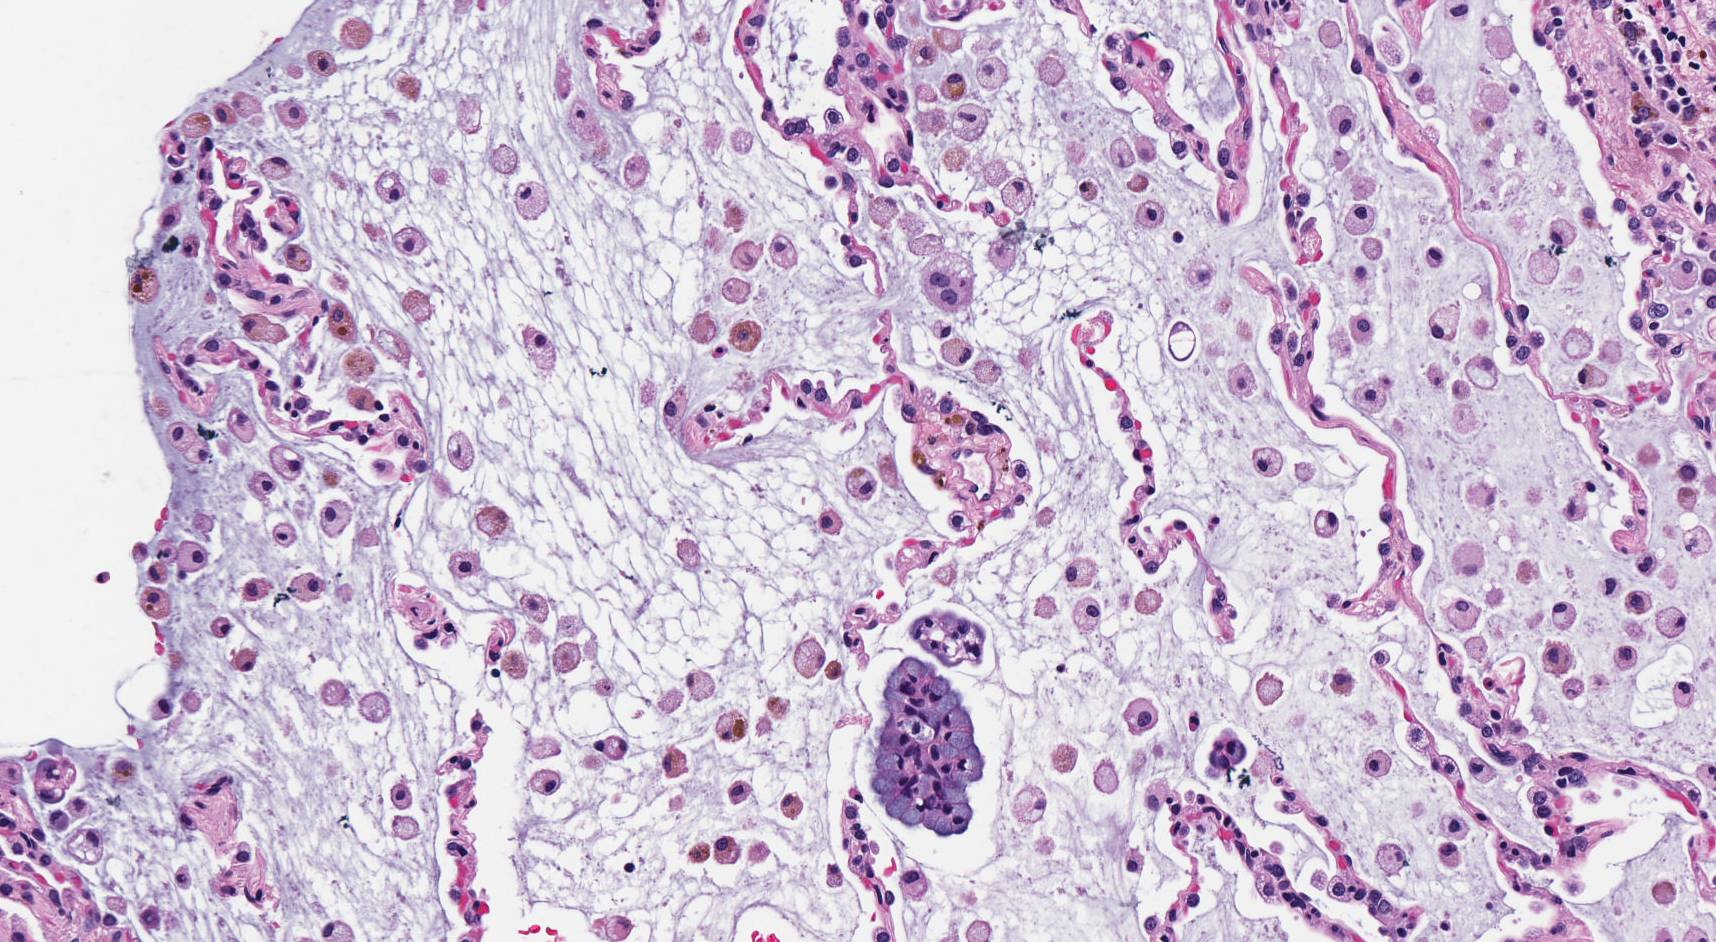stas: (869, 657, 982, 837), (908, 609, 986, 668), (1208, 725, 1250, 776)
